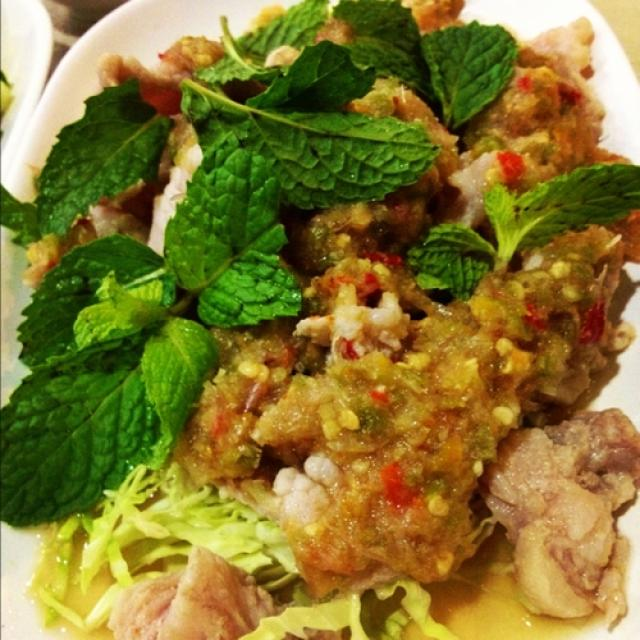猪肉菜式: (9, 26, 613, 624)
